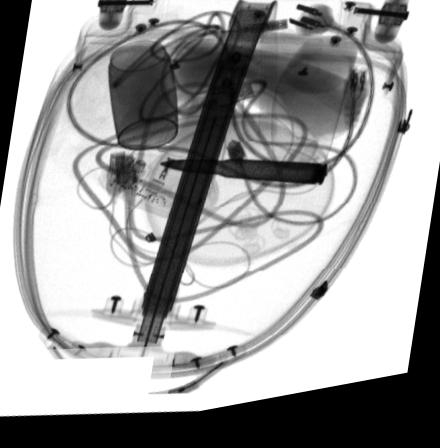Bullet: (158, 166, 328, 197)
